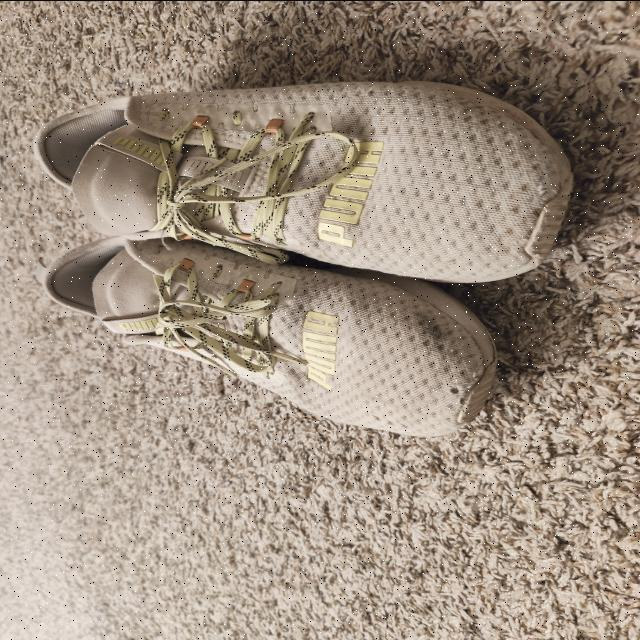white shoes: (99, 85, 561, 352)
